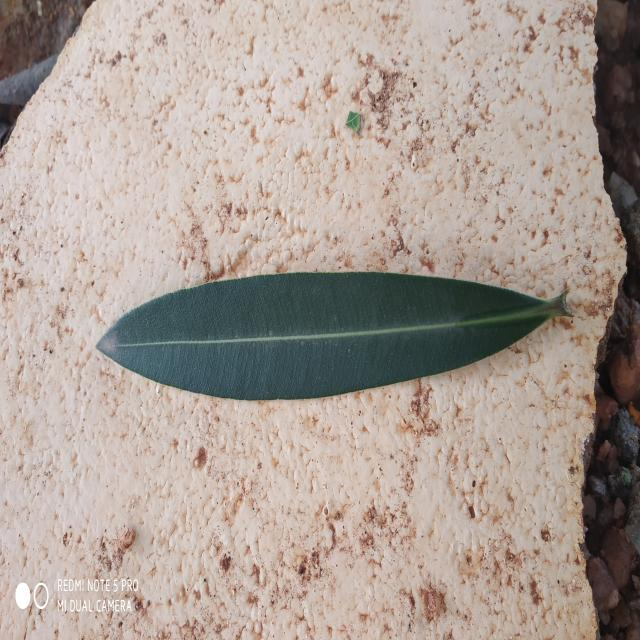ganigale: (98, 271, 571, 400)
